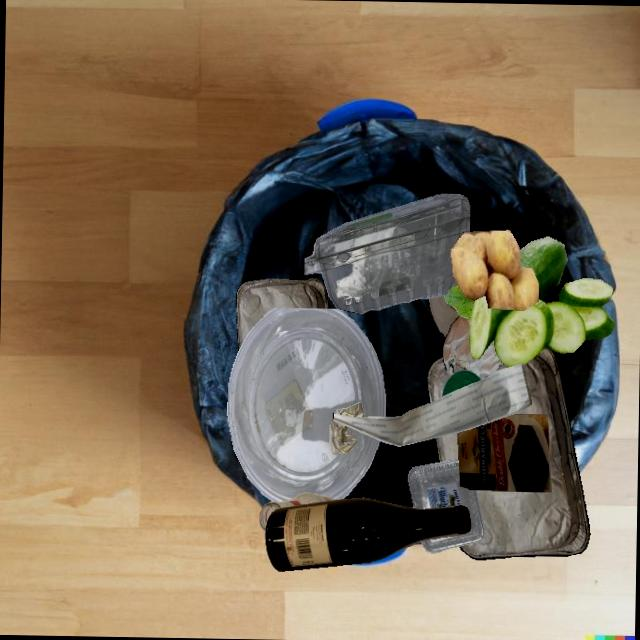biowaste: (443, 236, 615, 366), (450, 230, 538, 310)
cardboard: (457, 413, 551, 492)
glass: (265, 497, 471, 571), (258, 492, 335, 531), (428, 295, 458, 336)
metal: (459, 347, 590, 559), (452, 367, 501, 522), (236, 277, 328, 351)
paper: (333, 363, 531, 446), (442, 315, 503, 380), (329, 414, 357, 454), (333, 402, 364, 417)
plastic: (227, 307, 385, 501), (304, 193, 470, 314), (408, 458, 484, 553), (442, 370, 481, 396)
